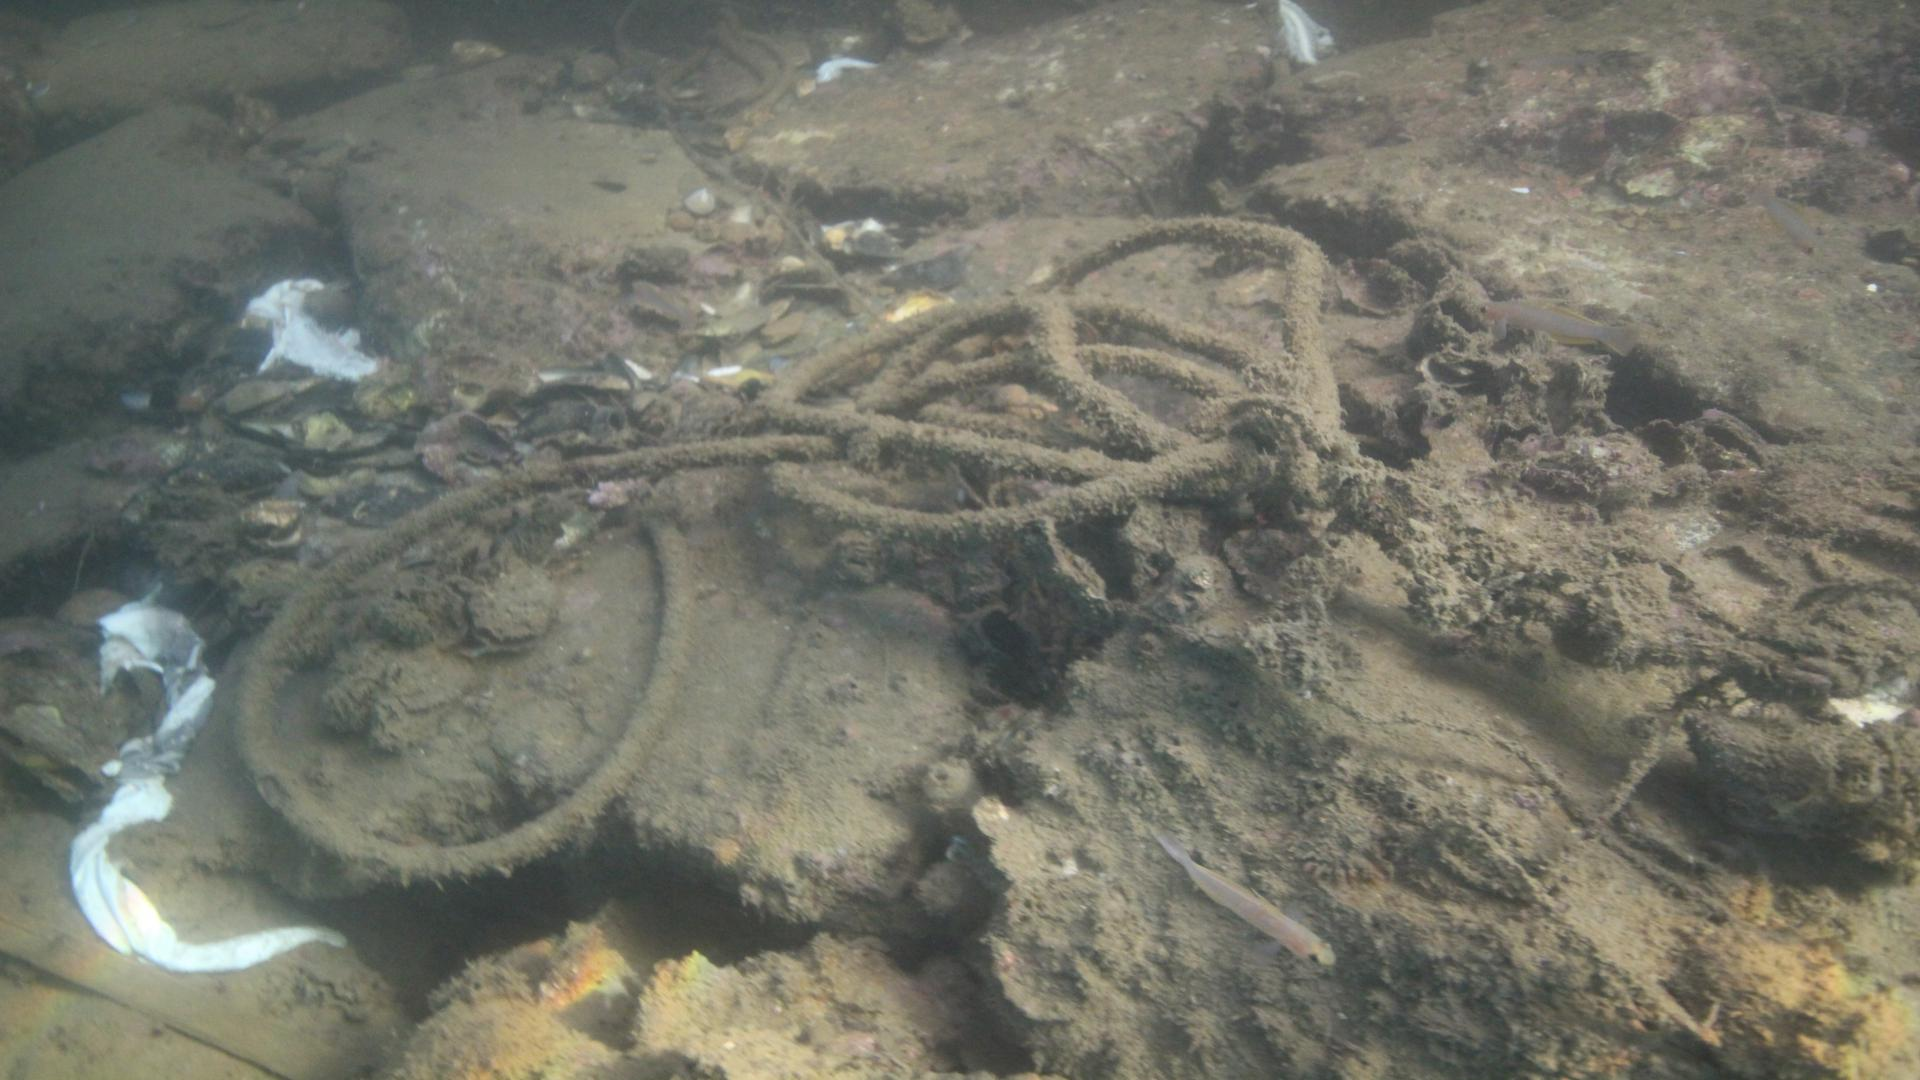bundle of ropes: (225, 214, 1346, 884)
